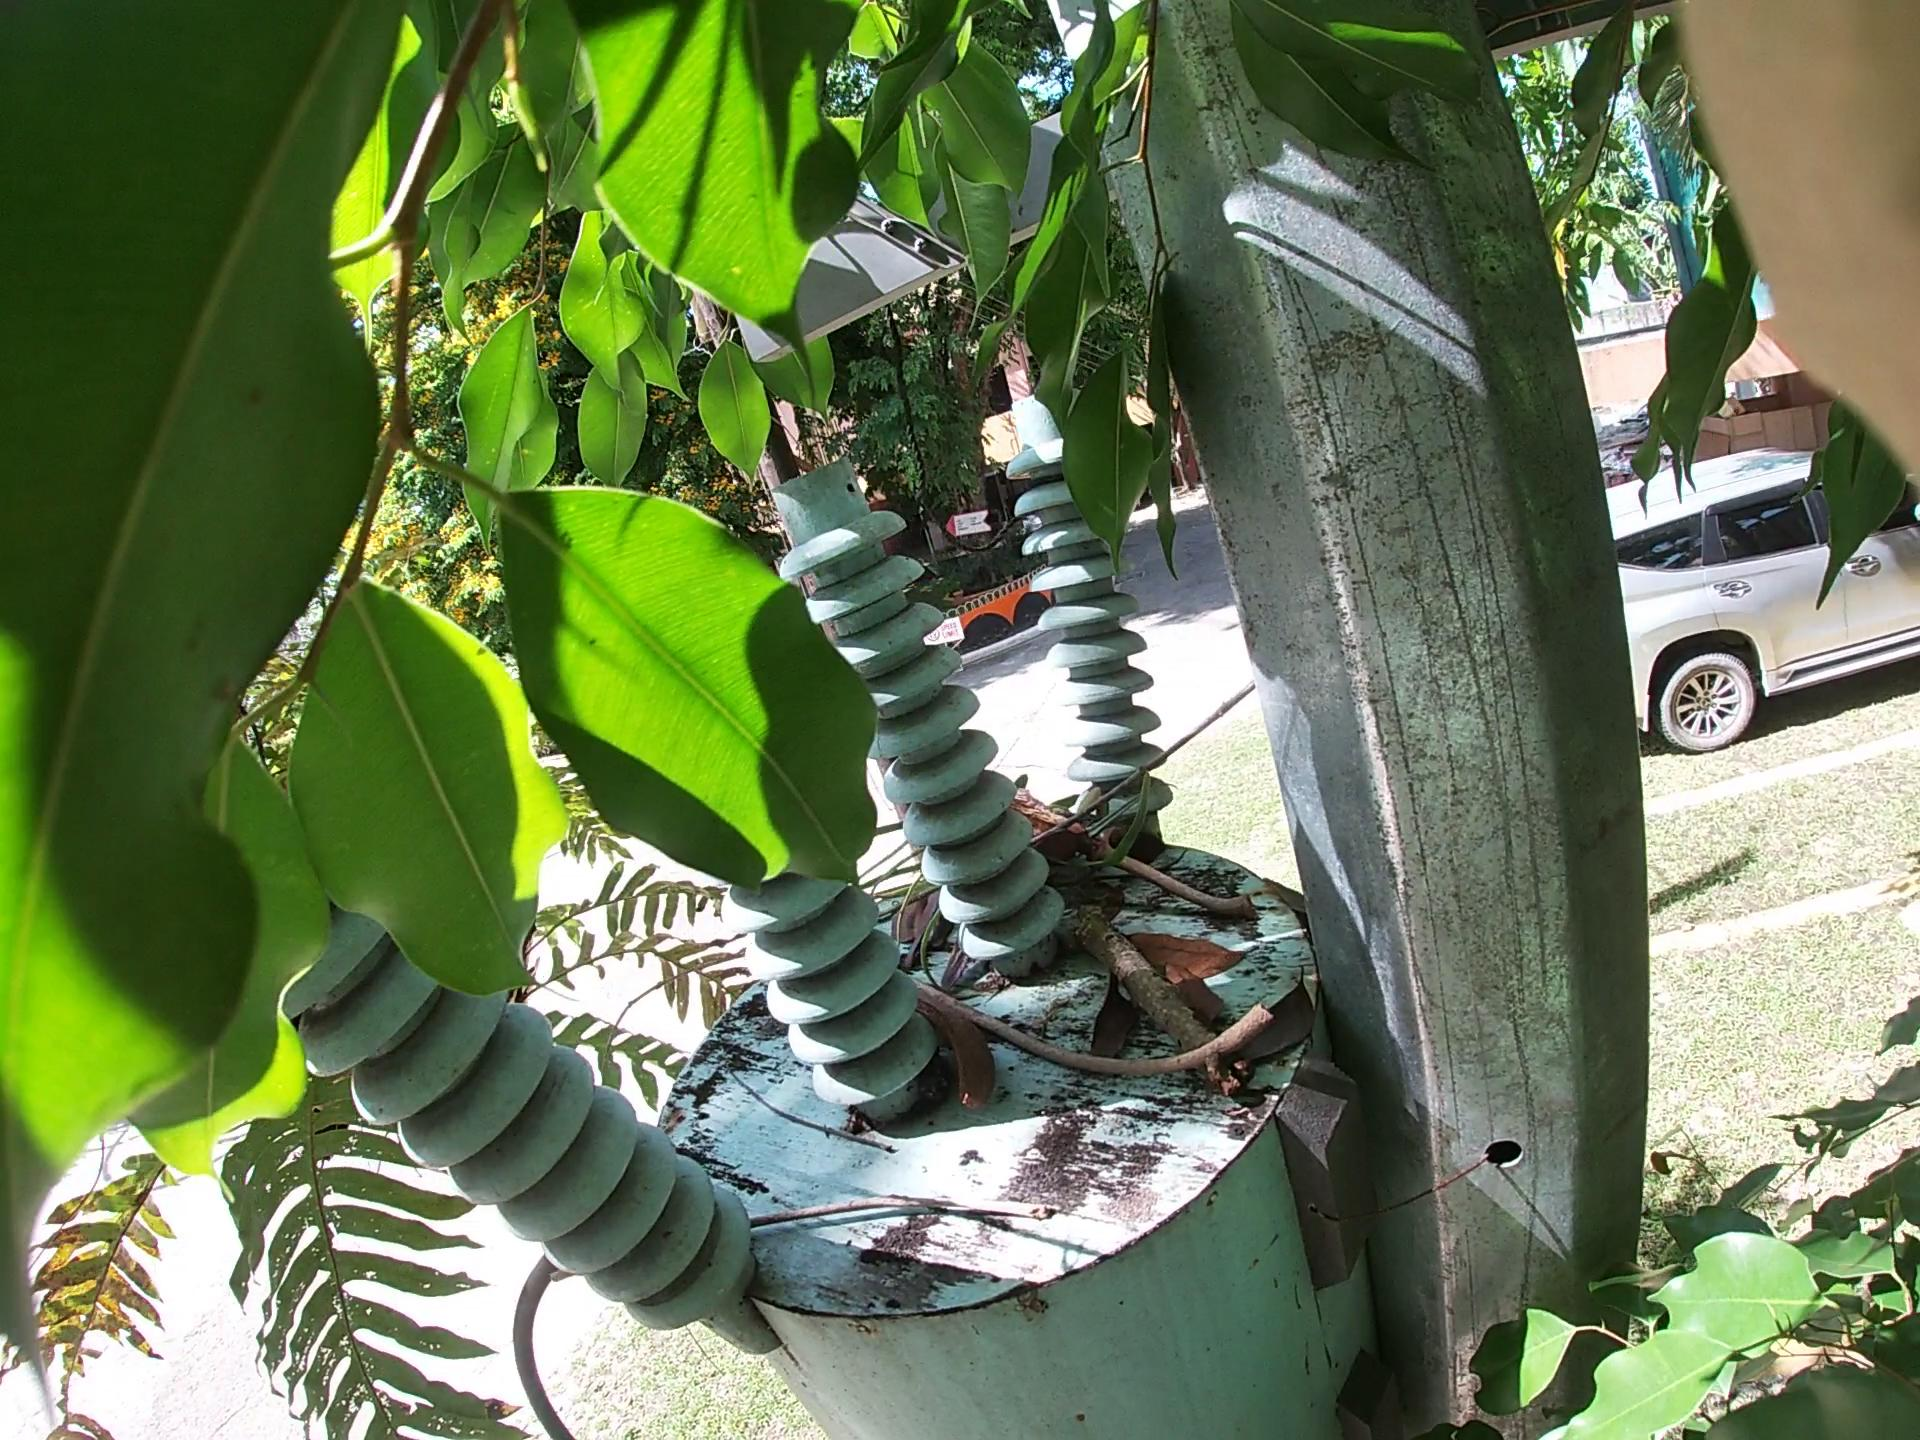leaf: (1073, 836, 1243, 1069)
tree branch: (543, 690, 1219, 1072), (1089, 849, 1268, 1128), (596, 1175, 1055, 1284), (868, 942, 1217, 1080), (980, 791, 1265, 926)
